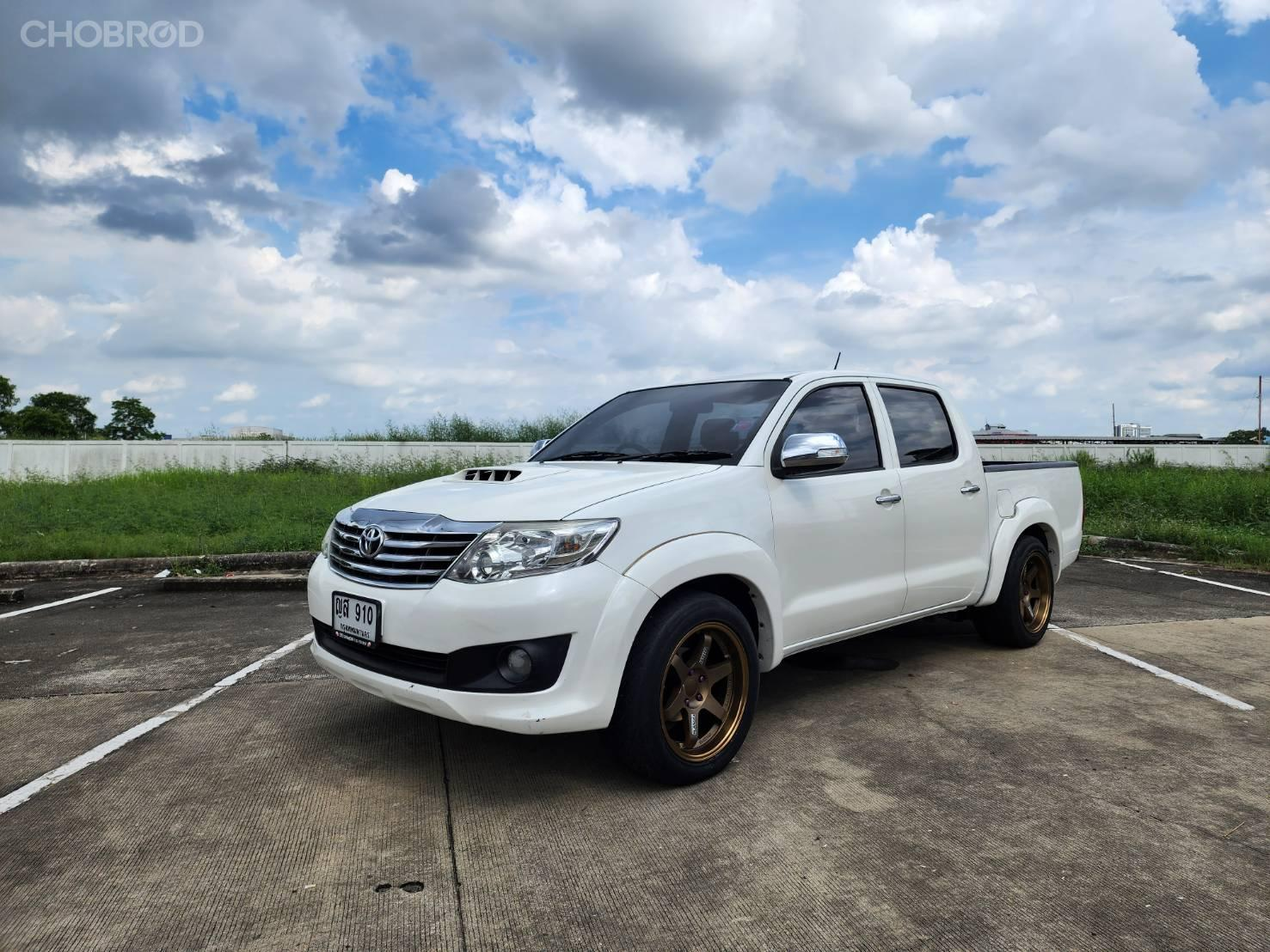license-plate: (327, 587, 387, 654)
